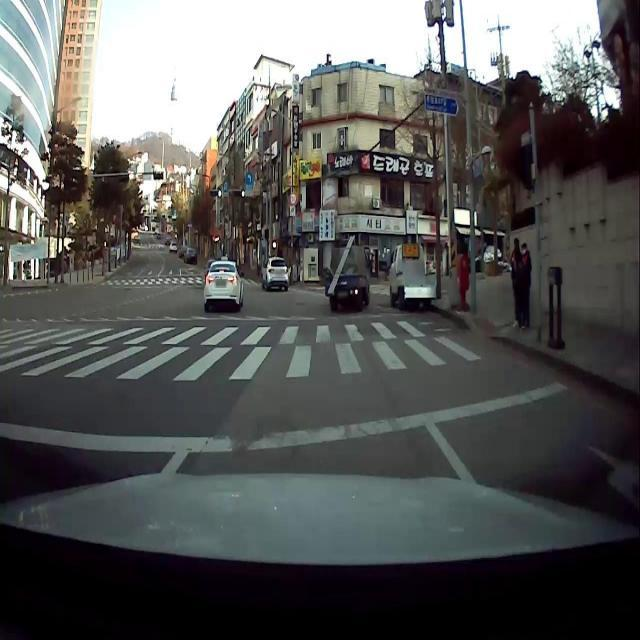crosswalk: (1, 318, 484, 381), (99, 273, 258, 285)
